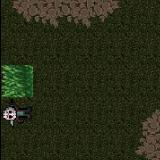Jason: (0, 96, 32, 128)
Slow: (0, 65, 33, 96)
